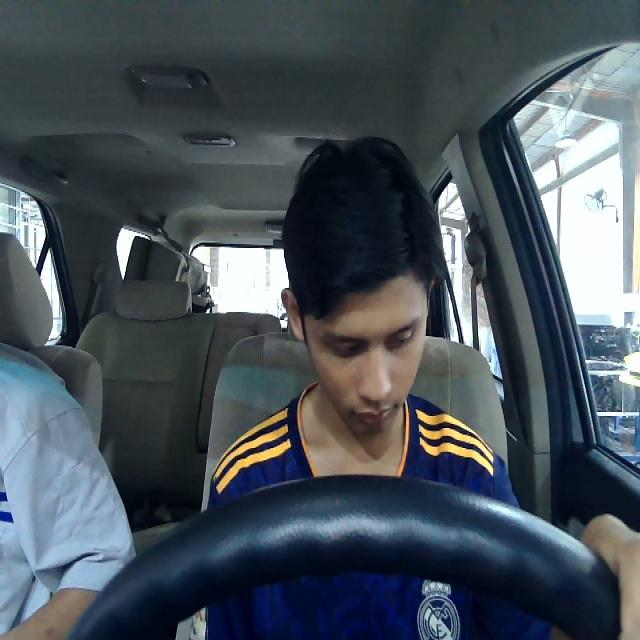seeing_right: (279, 271, 433, 433)
